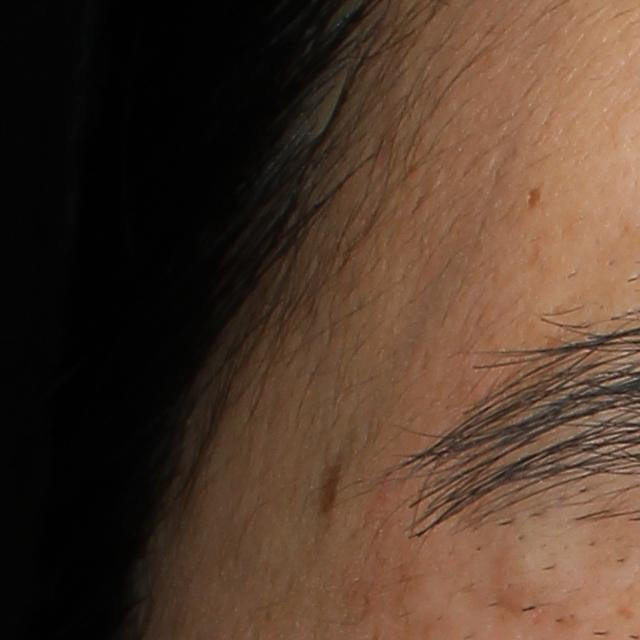melasma: (486, 538, 530, 623), (315, 452, 350, 518), (527, 183, 544, 210)
